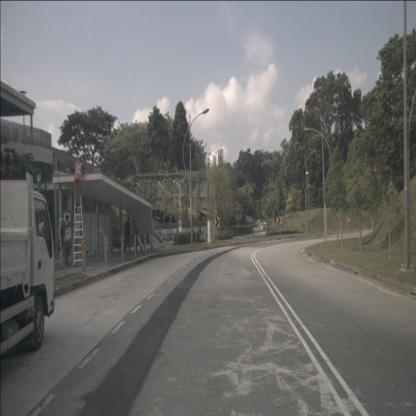human-pedestrian-adult: (124, 217, 132, 253), (132, 219, 138, 253), (116, 230, 124, 255)
vehicle-truck: (0, 172, 55, 357)
